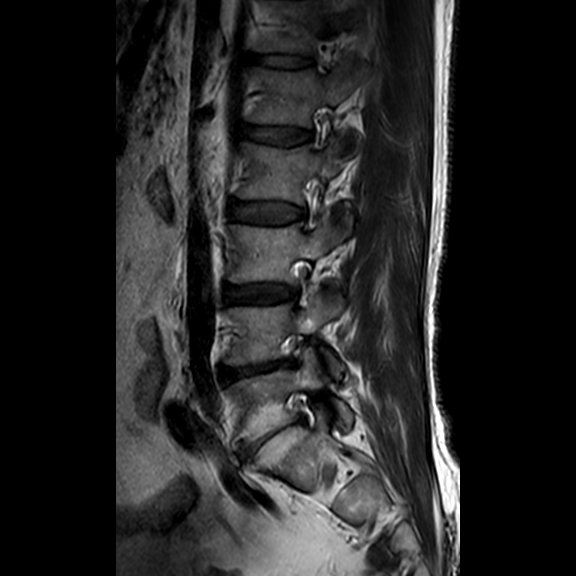RFS0: (285, 169, 329, 240), (275, 381, 329, 438), (277, 249, 323, 314), (299, 97, 342, 160)
RFS2: (265, 323, 316, 379)
